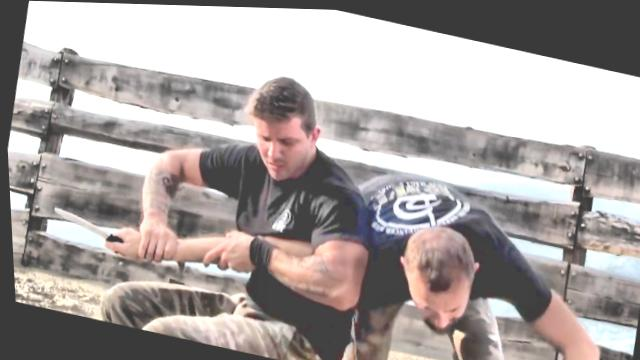knife: (39, 199, 137, 263)
